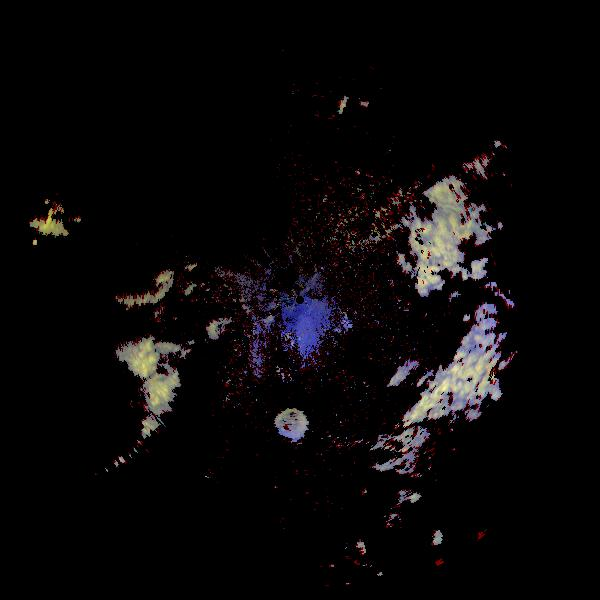roost: (276, 406, 309, 439)
